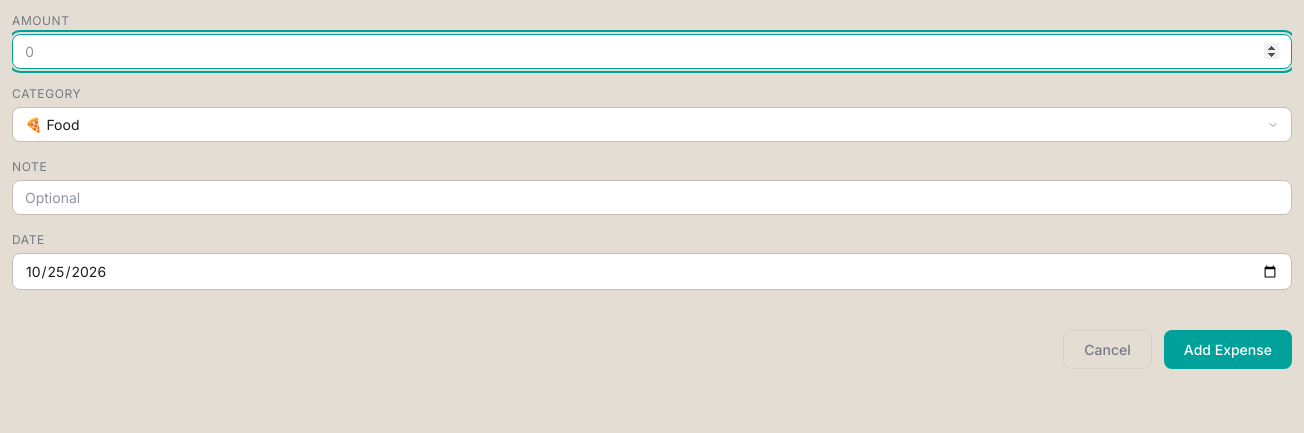
it: ExpenseForm › keeps the form available and displays an API failure
Type "50" into the number field labelled "Amount" at point(652, 52), box [12, 34, 1292, 69]
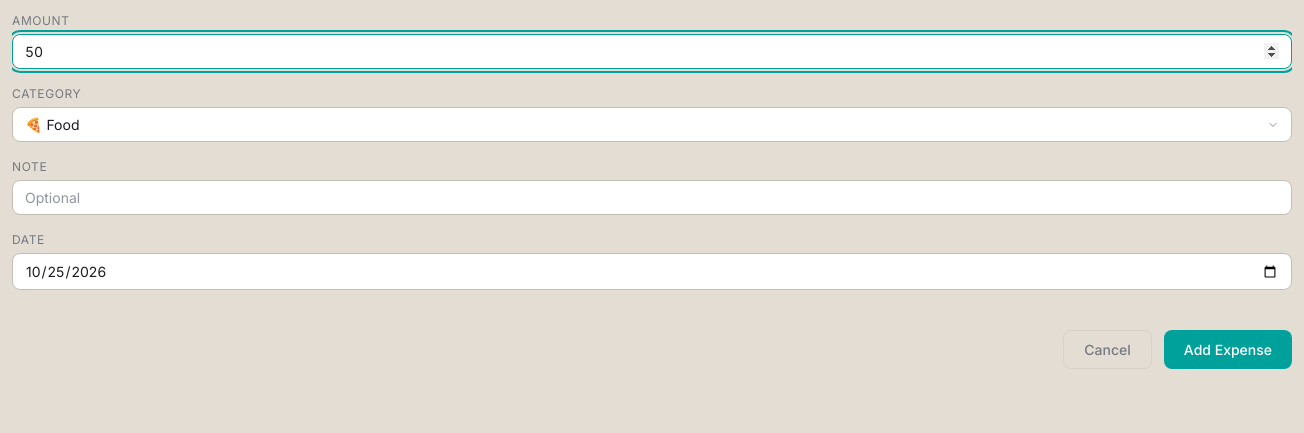
Click the button "Add Expense" at point(1228, 350), box [1164, 330, 1292, 369]
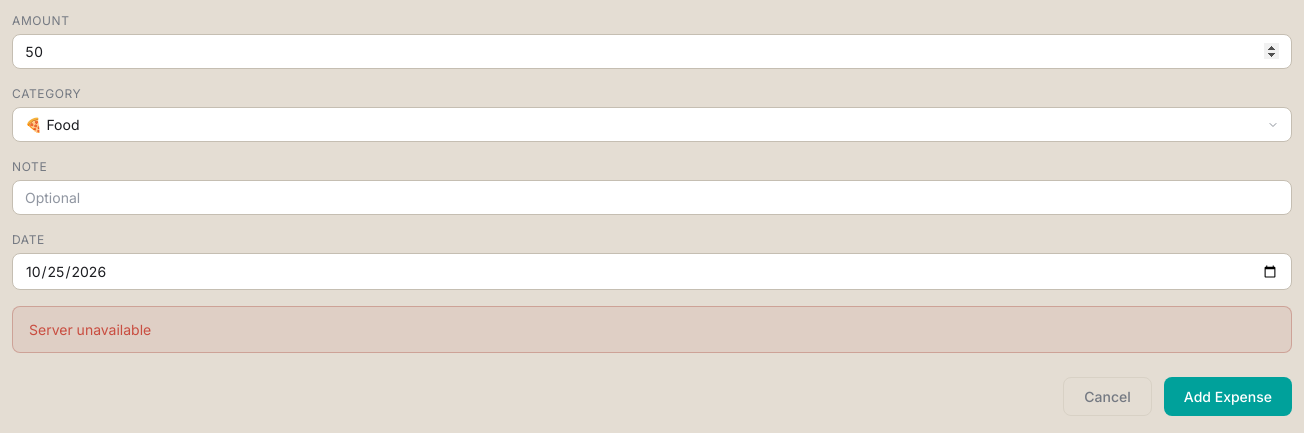
Check: the button "Add Expense" is enabled, box [1164, 377, 1292, 416]
Check: the message reads "Server unavailable", box [29, 321, 151, 338]
